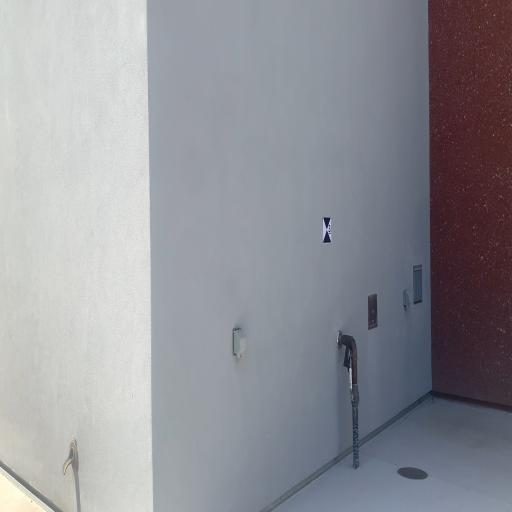target3: (323, 216, 333, 245)
